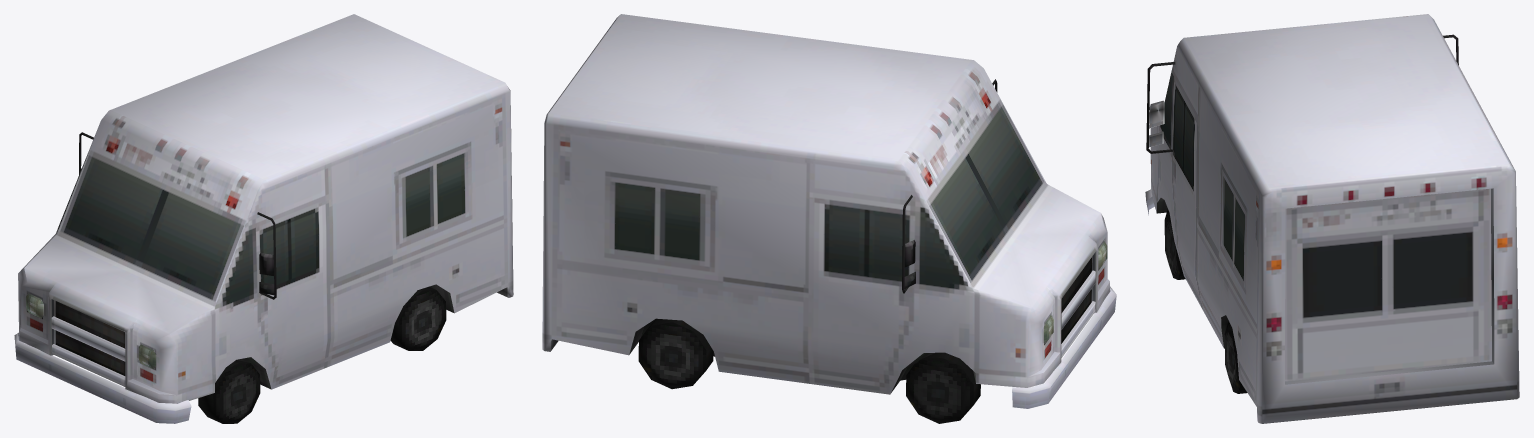
The model's file is TruckV2.fbx.
3 views of the same model, side by side, from view 1: azimuth 30°, elevation 25°; view 2: azimuth 150°, elevation 25°; view 3: azimuth 270°, elevation 25° (orthographic). The views are drawn at different scales.
Visible parts, largest first — view 1: IceCream_Truck, IceCream_Truck_Wheel_Front_L, IceCream_Truck_Wheel_Rear_L; view 2: IceCream_Truck, IceCream_Truck_Wheel_Front_R, IceCream_Truck_Wheel_Rear_R; view 3: IceCream_Truck, IceCream_Truck_Wheel_Rear_L, IceCream_Truck_Wheel_Front_L.
Boxes of the visible parts, x1=… form: IceCream_Truck: x1=14, y1=14, x2=513, y2=423; IceCream_Truck_Wheel_Front_L: x1=198, y1=360, x2=260, y2=423; IceCream_Truck_Wheel_Rear_L: x1=390, y1=286, x2=446, y2=350; IceCream_Truck: x1=542, y1=14, x2=1116, y2=408; IceCream_Truck_Wheel_Front_R: x1=906, y1=352, x2=980, y2=423; IceCream_Truck_Wheel_Rear_R: x1=638, y1=318, x2=713, y2=389; IceCream_Truck: x1=1145, y1=14, x2=1519, y2=423; IceCream_Truck_Wheel_Rear_L: x1=1224, y1=322, x2=1247, y2=393; IceCream_Truck_Wheel_Front_L: x1=1164, y1=209, x2=1185, y2=279.
Bounding box in the file's own units: 5.79 × 2.91 × 3.82.
